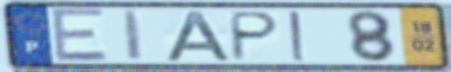8: (345, 8, 398, 65)
A: (163, 9, 236, 63)
E: (48, 6, 111, 64)
I: (121, 8, 146, 63), (286, 9, 309, 63)
P: (229, 10, 282, 62)
